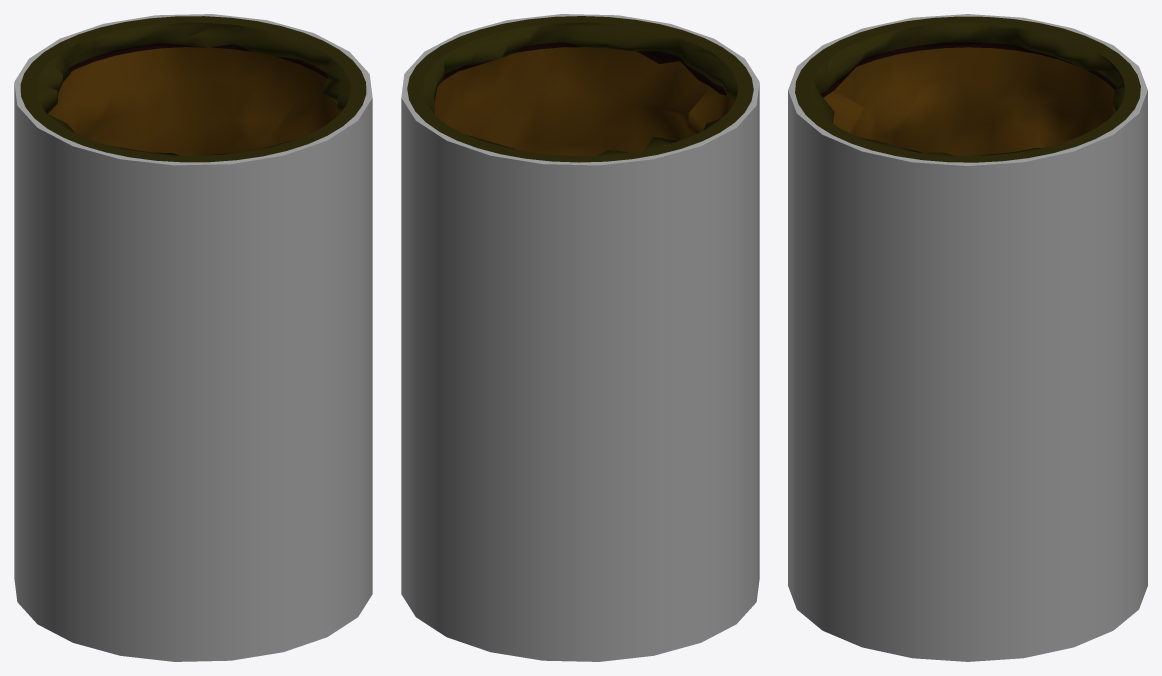
File: Pit.fbx
3 views of the same model, side by side, from view 1: azimuth 30°, elevation 25°; view 2: azimuth 150°, elevation 25°; view 3: azimuth 270°, elevation 25° (orthographic).
Parts seen in each view (by area): view 1: Occluder, Structure; view 2: Occluder, Structure; view 3: Occluder, Structure.
Part boxes in pixels (bbox=[...]): Occluder: bbox=[14, 14, 372, 661]; Structure: bbox=[20, 16, 366, 162]; Occluder: bbox=[401, 14, 759, 661]; Structure: bbox=[407, 16, 753, 162]; Occluder: bbox=[788, 14, 1147, 661]; Structure: bbox=[795, 16, 1140, 162].
Bounding box in the file's own units: 8 × 12.2 × 8.
